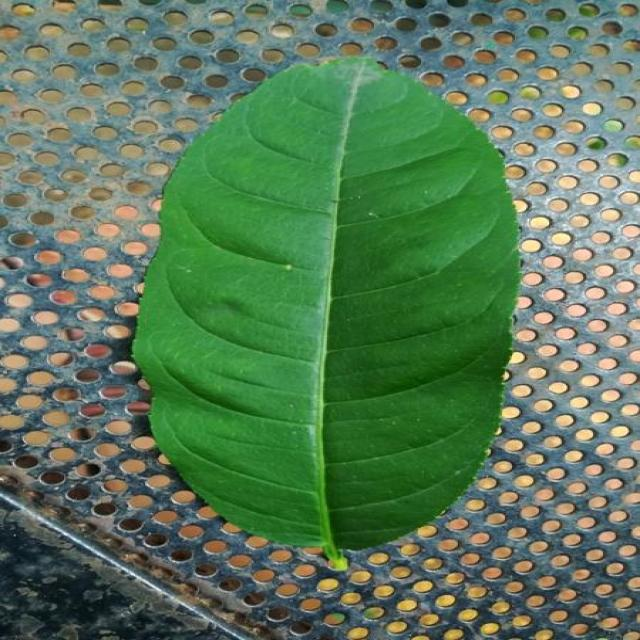badipala: (133, 58, 520, 569)
